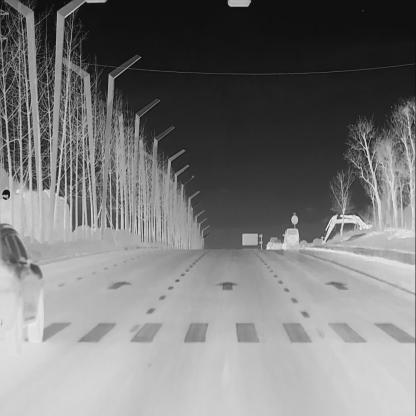car: (0, 221, 48, 355), (282, 227, 300, 250), (271, 237, 282, 251), (268, 235, 278, 250), (264, 240, 270, 250)
